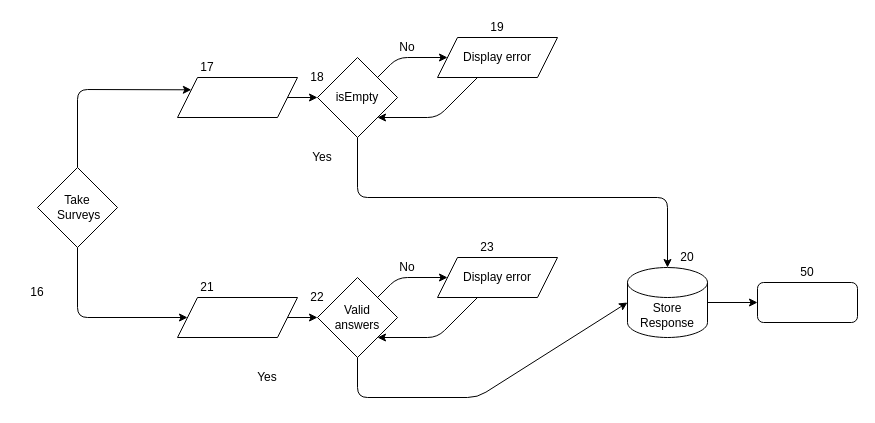
Image size: 875x423. Some labels were removed from this diagram. Here are the shapes that lost their labels. From the top down, the centre of each, then its label:
point 237,97: Check compulsory fields
point 237,317: Check other fields
point 807,302: Stop
